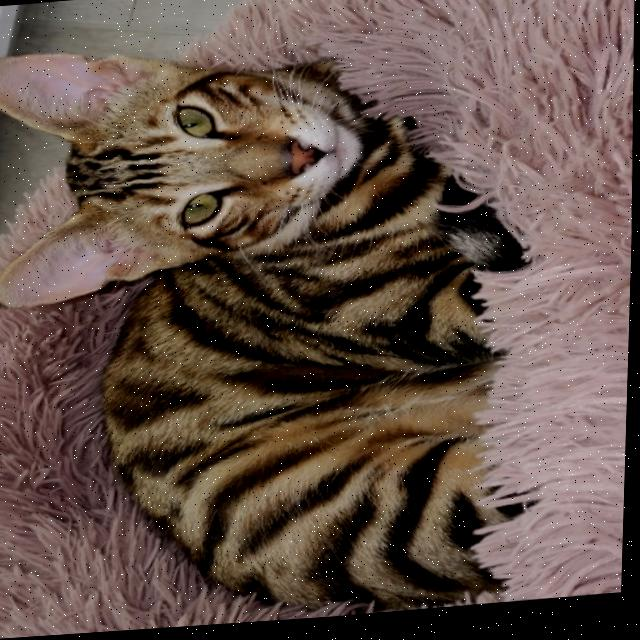Toyger: (0, 15, 545, 640)
